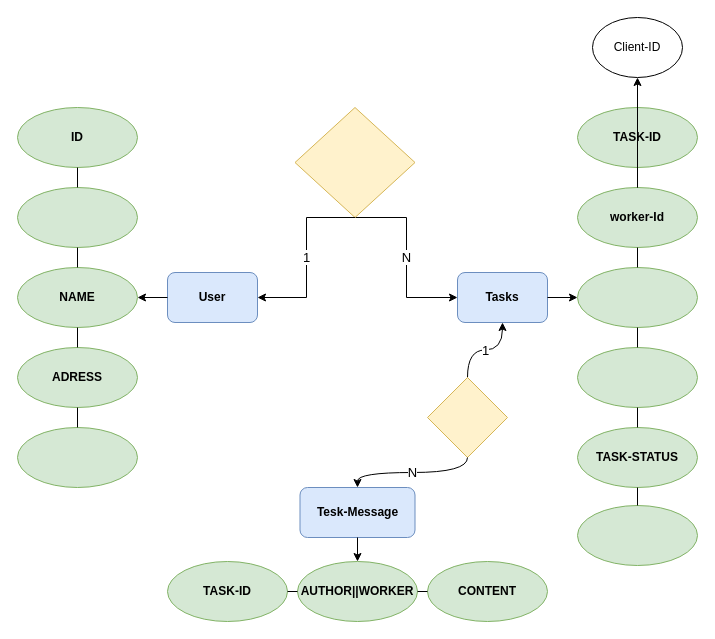
This 715x639 diagram has some shape labels left out. The centre of each missing label's shape, as x and y in pixels:
"belongs to" goes at [467,417].
"made" goes at [354,162].
"PASSWORD" goes at [77,217].
"ROLE" goes at [77,457].
"TASK DESC" goes at [637,377].
"TASK-IMG" goes at [637,535].
"TASK-NAME" goes at [637,297].
